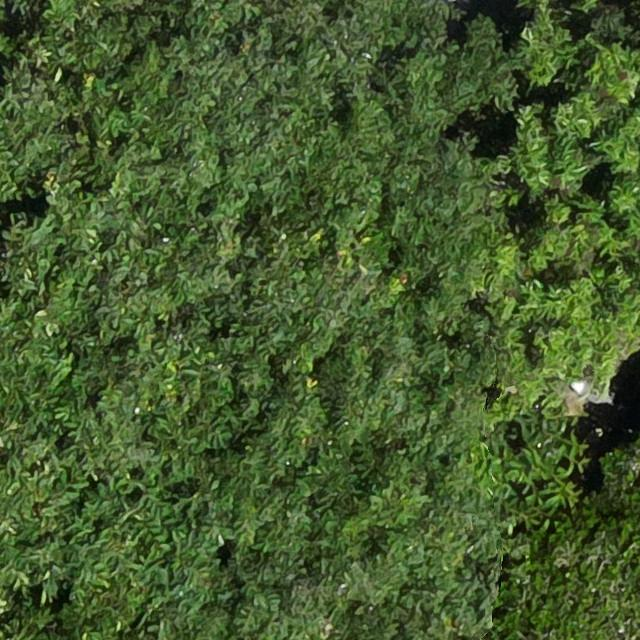umineko: (569, 377, 612, 406)
